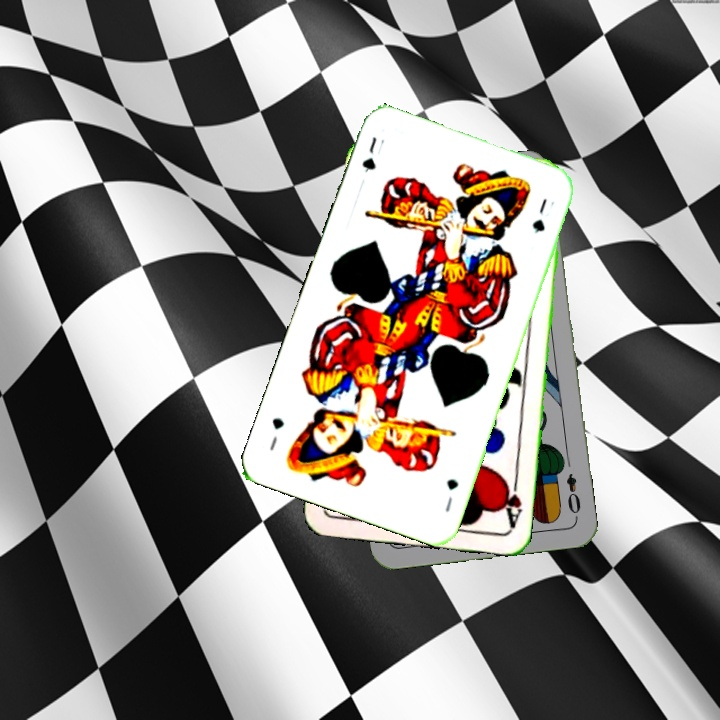EO: (562, 469, 584, 521)
GU: (358, 132, 387, 174), (440, 474, 462, 515)
HA: (498, 470, 525, 530)
